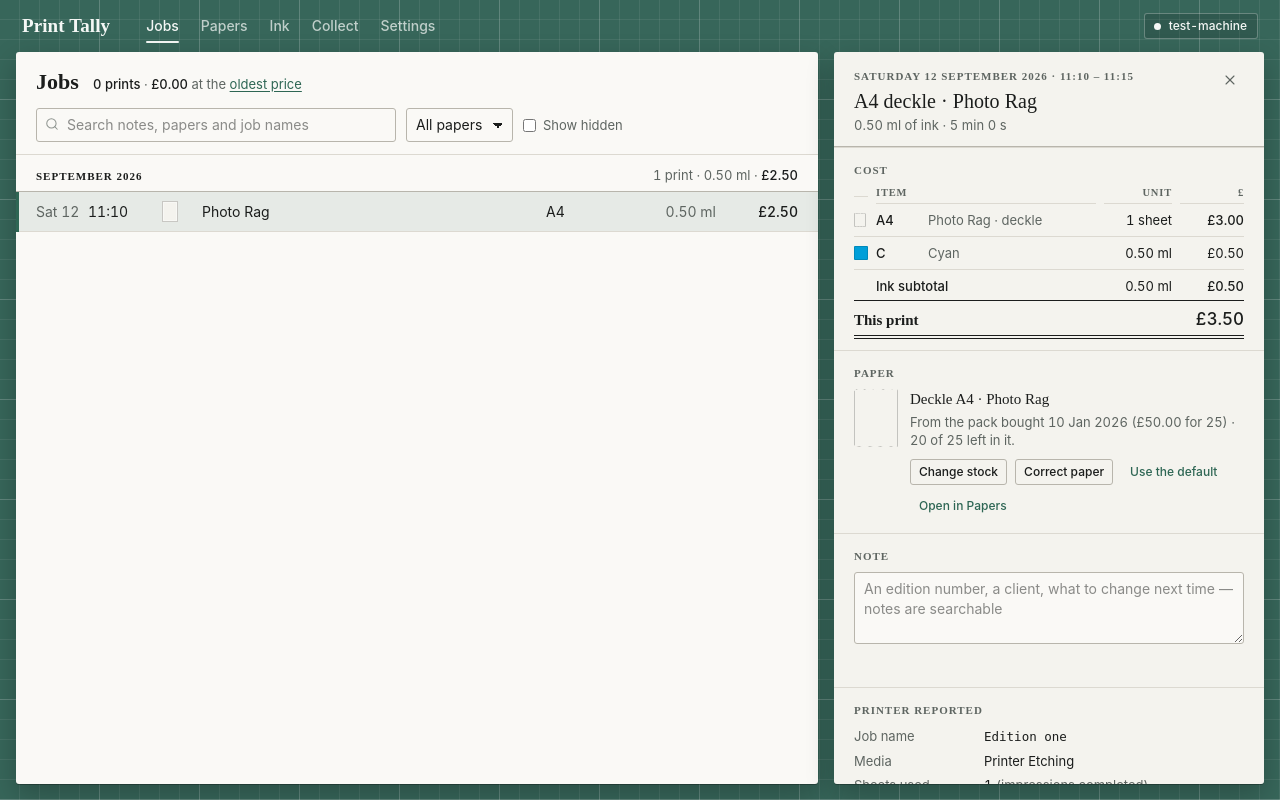
Test: clearing a paper correction restores printer-media allocation rather than assigning a different paper
This screenshot has width=1280, height=800.
Expected: the option "Sat 12 11:10 Photo Rag A4 0.50 ml £2.50" is shown, [16,192,818,232]
Click the button "Use the default": (1174, 472) [1121,459,1226,485]
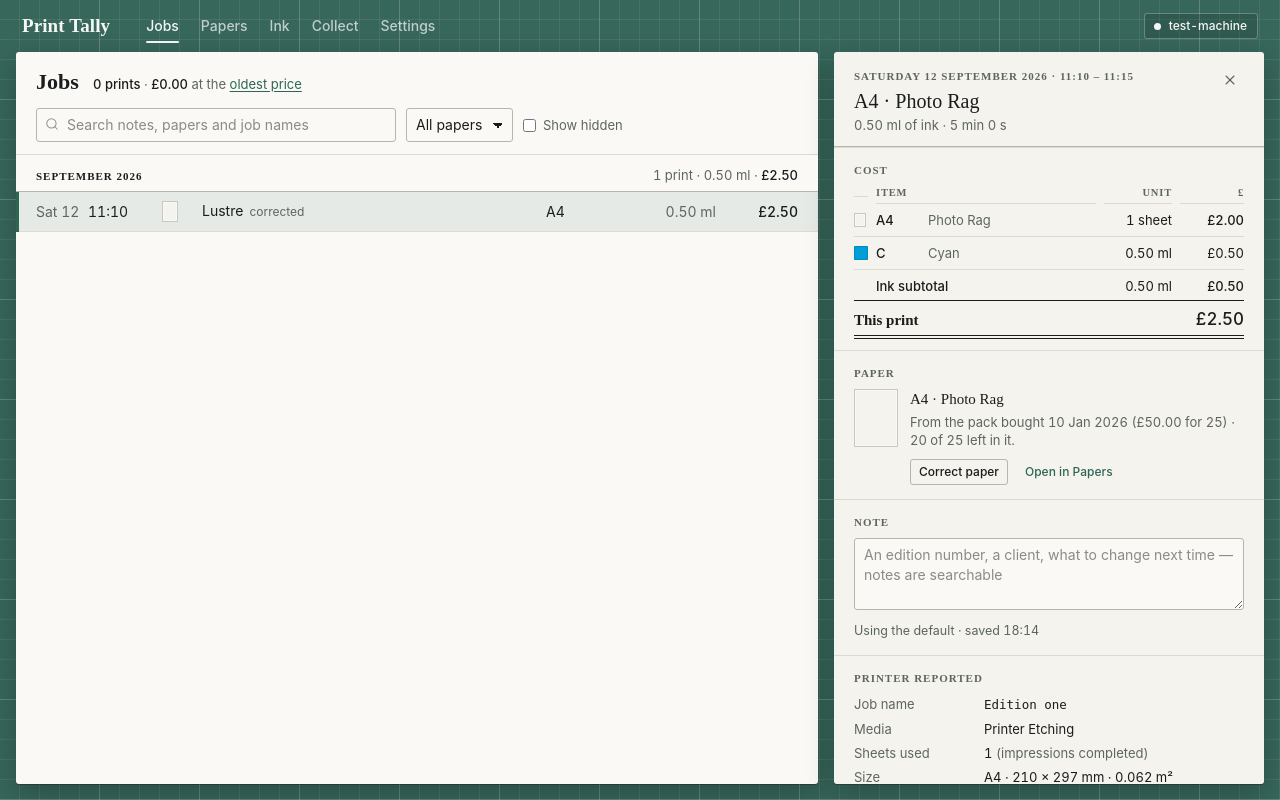
Expected: the heading "A4 · Photo Rag 0.50 ml of ink · 5 min 0 s" is shown, [854,90,1006,133]
Now the text "Using the default · saved 18:14" is shown, box [854,623,1039,638]
